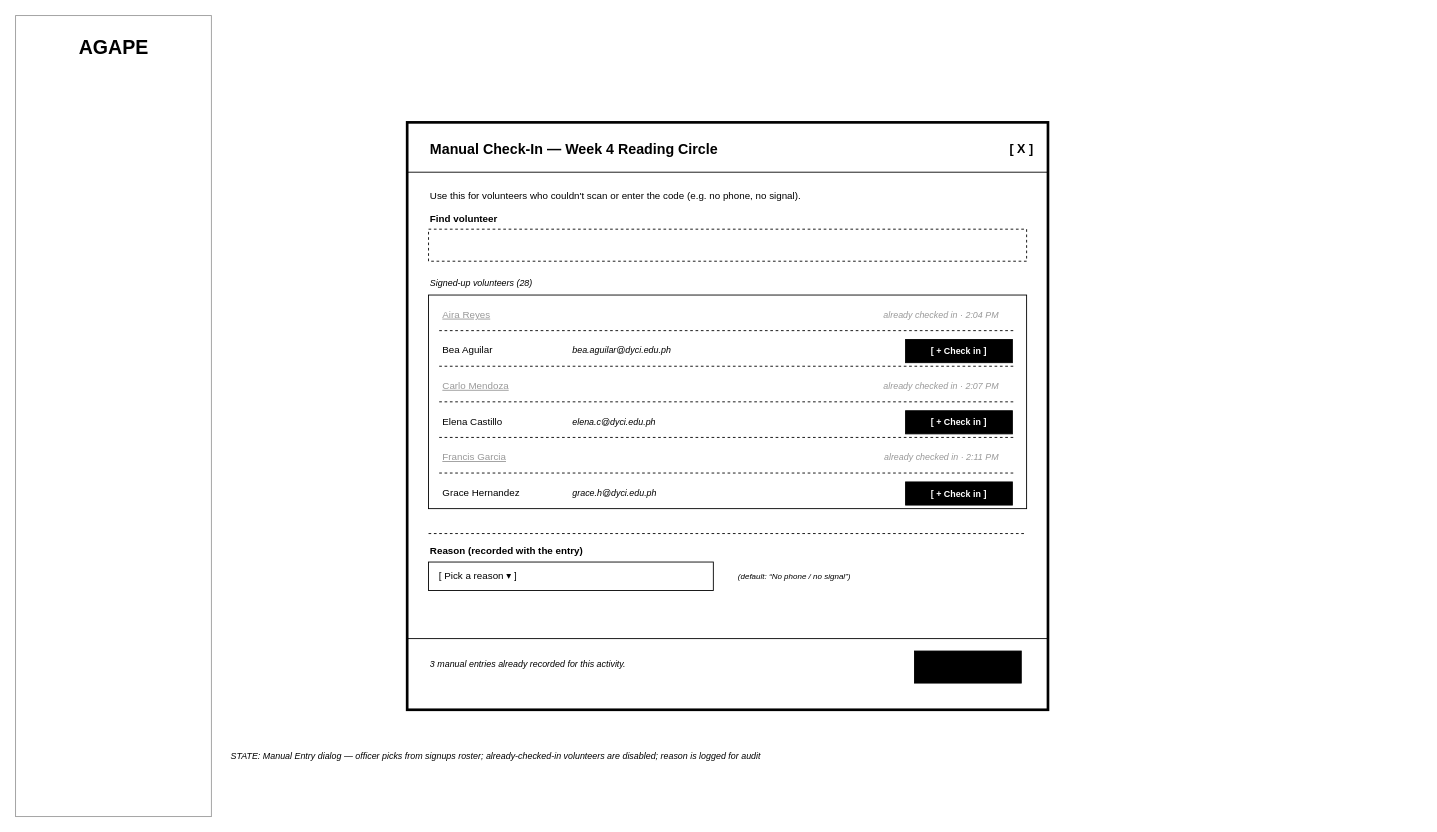
This 1437x832 diagram has some shape labels left out. The centre of each missing label's shape, as x and y in pixels:
"[ DONE ]" goes at (x=967, y=666).
"🔍 Search name or email…" goes at (x=727, y=244).
